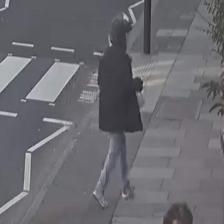person: (93, 18, 142, 208)
